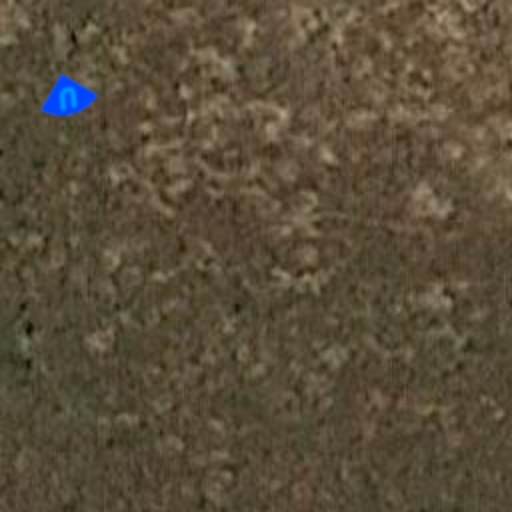quarter_circle: (32, 62, 104, 134)
